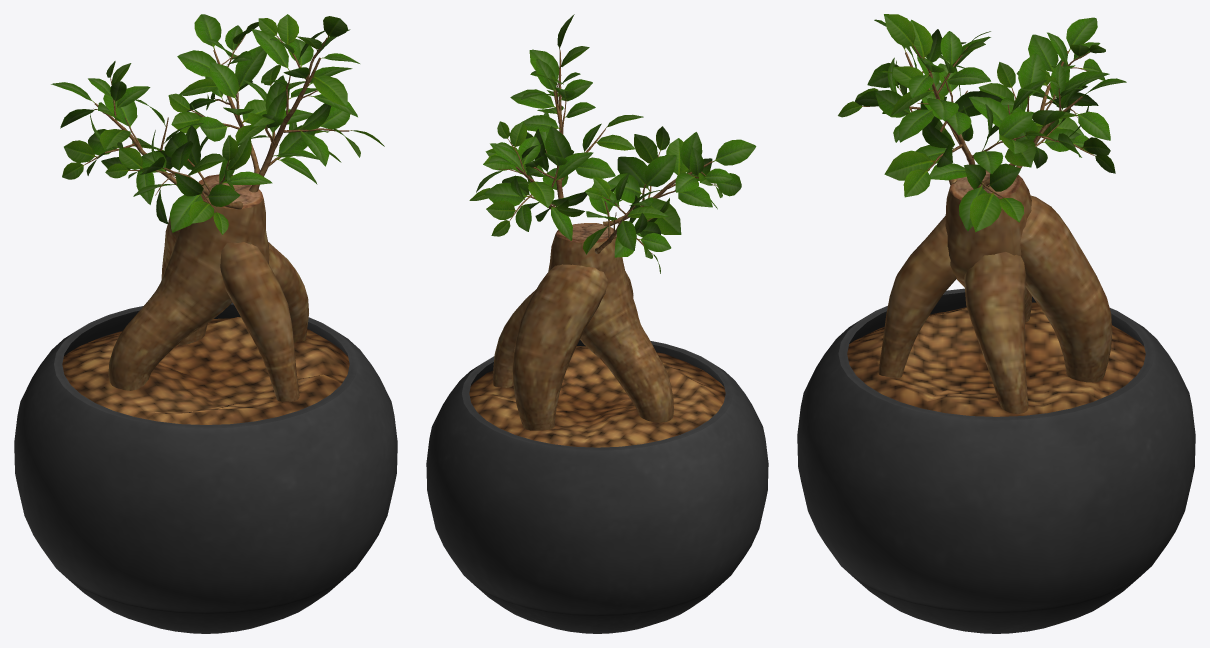
Rendered from BP_RoomPlantsSet01_GajumaruA.fbx.
3 views of the same model, side by side, from view 1: azimuth 30°, elevation 25°; view 2: azimuth 150°, elevation 25°; view 3: azimuth 270°, elevation 25° (orthographic). The views are drawn at different scales.
Visible parts, largest first — view 1: Hachi, Ha, Miki, Hydroball, Ha_ura, Eda; view 2: Hachi, Ha, Miki, Hydroball, Ha_ura, Eda; view 3: Hachi, Miki, Ha, Hydroball, Ha_ura, Eda.
Part boxes in pixels (box(x1,y1,x2,y2)): Hachi: box(14, 302, 397, 633); Ha: box(51, 14, 384, 234); Miki: box(108, 174, 308, 401); Hydroball: box(62, 317, 349, 424); Ha_ura: box(57, 14, 380, 233); Eda: box(85, 35, 349, 211); Hachi: box(426, 340, 768, 633); Ha: box(469, 14, 755, 273); Miki: box(493, 223, 673, 430); Hydroball: box(469, 346, 725, 447); Ha_ura: box(470, 16, 754, 264); Eda: box(498, 50, 718, 253); Hachi: box(797, 288, 1195, 633); Miki: box(878, 170, 1112, 413); Ha: box(838, 14, 1126, 231); Hydroball: box(847, 302, 1145, 416); Ha_ura: box(839, 14, 1124, 230); Eda: box(864, 46, 1093, 197).
Size of the model in its own units: 14.31 by 25.03 by 14.31.
